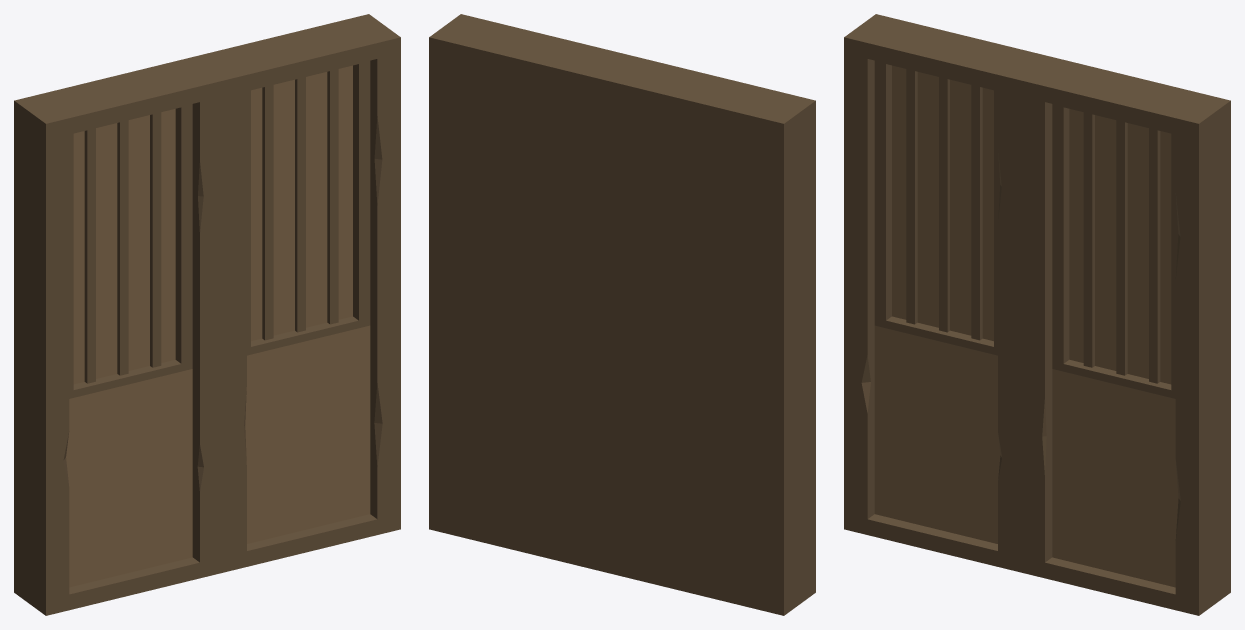
Rendered from SM_Env_Door_20.fbx.
3 renders of one model, left to right at view 1: azimuth 30°, elevation 25°; view 2: azimuth 150°, elevation 25°; view 3: azimuth 330°, elevation 25°, orthographic.
Visible parts, largest first — view 1: SM_Env_Door_20; view 2: SM_Env_Door_20; view 3: SM_Env_Door_20.
Part boxes in pixels (bbox=[...]): SM_Env_Door_20: bbox=[14, 14, 400, 615]; SM_Env_Door_20: bbox=[429, 14, 815, 615]; SM_Env_Door_20: bbox=[844, 14, 1230, 615].
Bounding box in the file's own units: 133 × 177 × 20.73.
1 material, 1 textured.
